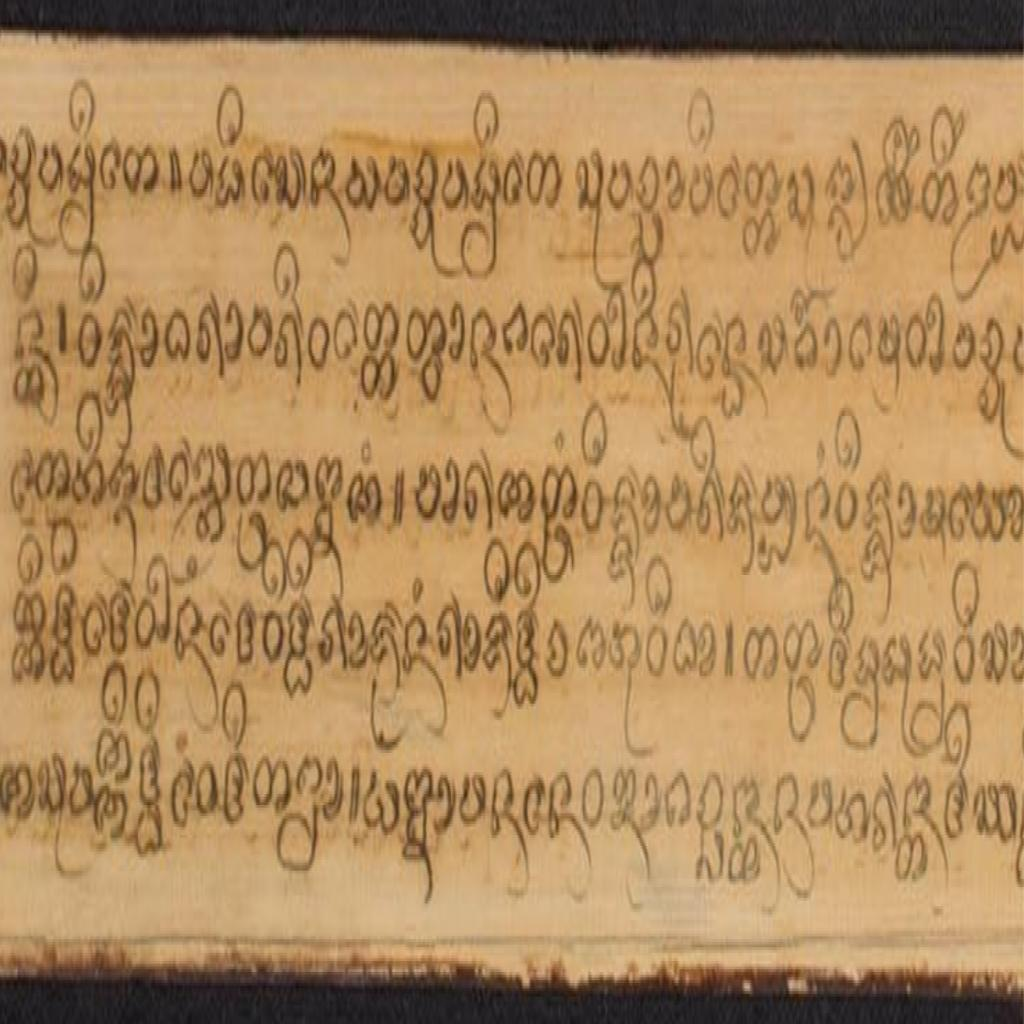LN022: (164, 301, 194, 370)
